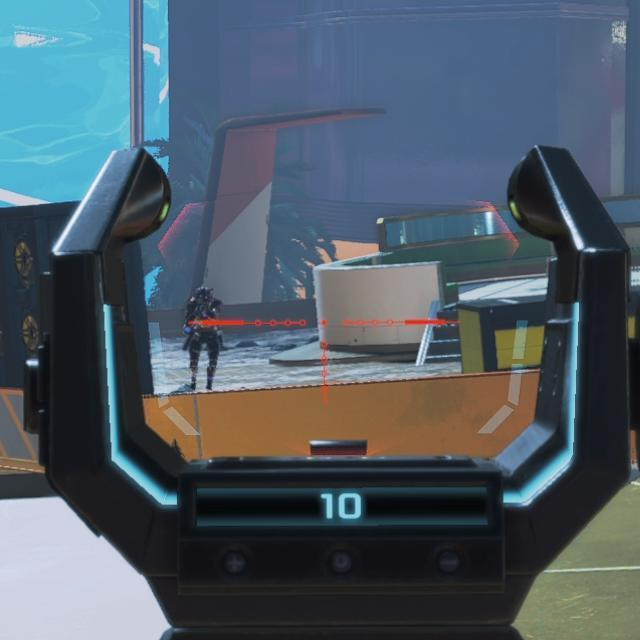avatar: (183, 284, 226, 393)
